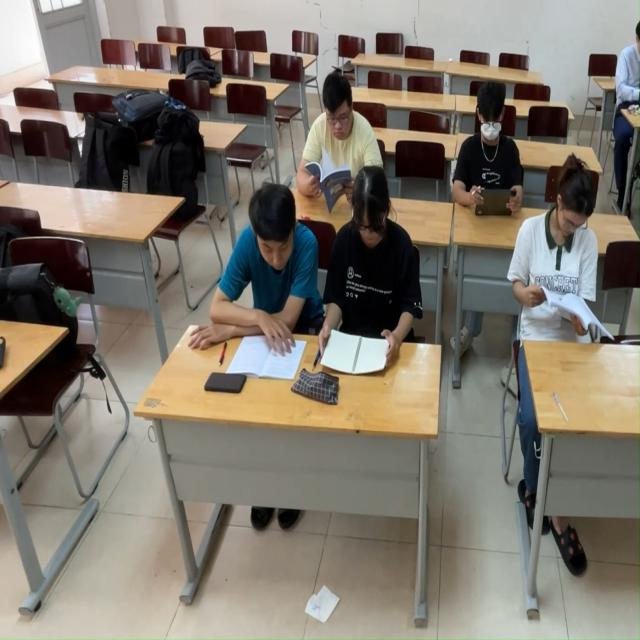read: (190, 181, 308, 394), (325, 165, 421, 397), (527, 160, 608, 405), (291, 42, 377, 204), (458, 84, 531, 229)
